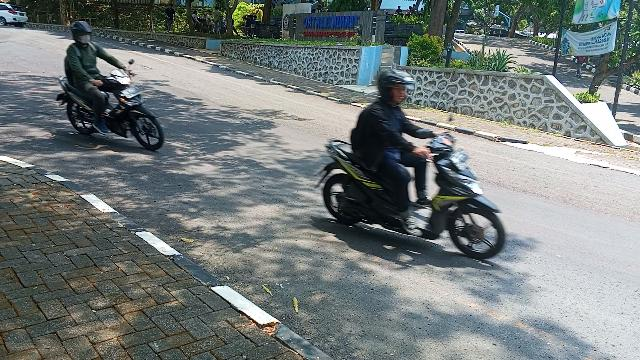helm: (379, 71, 415, 101), (72, 22, 93, 45)
motor: (315, 135, 505, 262), (58, 71, 165, 152)
